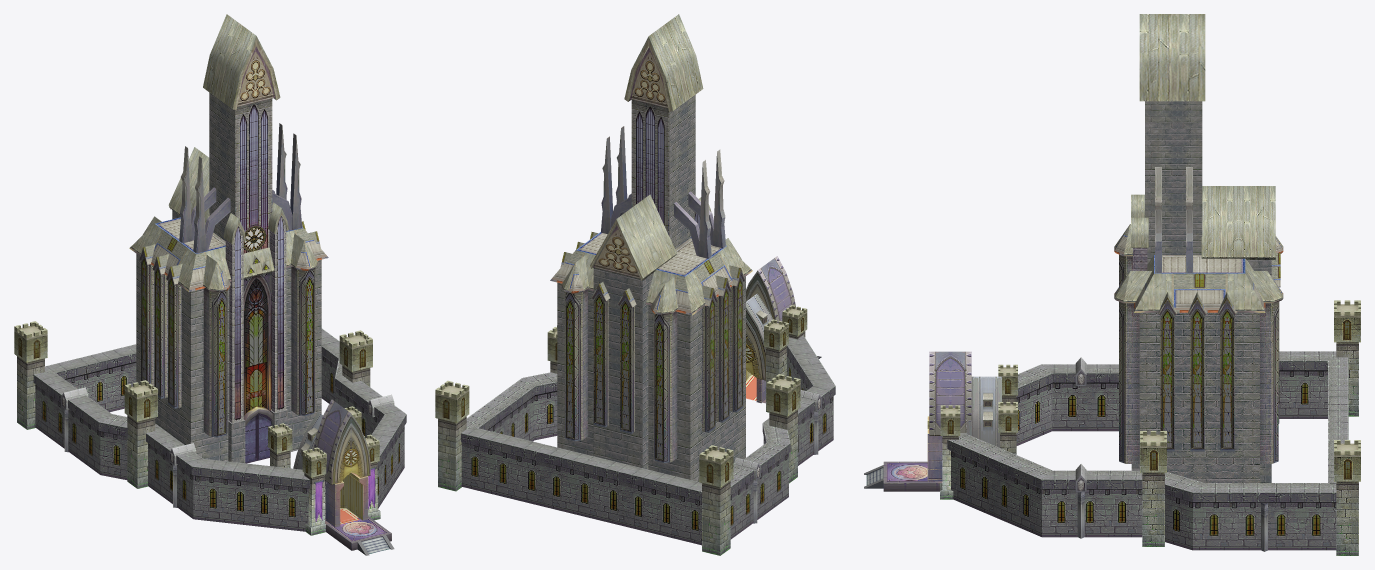
Rendered from Maincity_CastleA.FBX.
3 renders of one model, left to right at view 1: azimuth 30°, elevation 25°; view 2: azimuth 150°, elevation 25°; view 3: azimuth 270°, elevation 25°, orthographic. The views are drawn at different scales.
Visible parts, largest first — view 1: Castle_Level03; view 2: Castle_Level03; view 3: Castle_Level03.
Part boxes in pixels (x1,y1,x2,y2): Castle_Level03: [14, 14, 406, 555]; Castle_Level03: [435, 14, 835, 555]; Castle_Level03: [864, 14, 1360, 555].
Bounding box in the file's own units: 1573 × 2292 × 2192.
